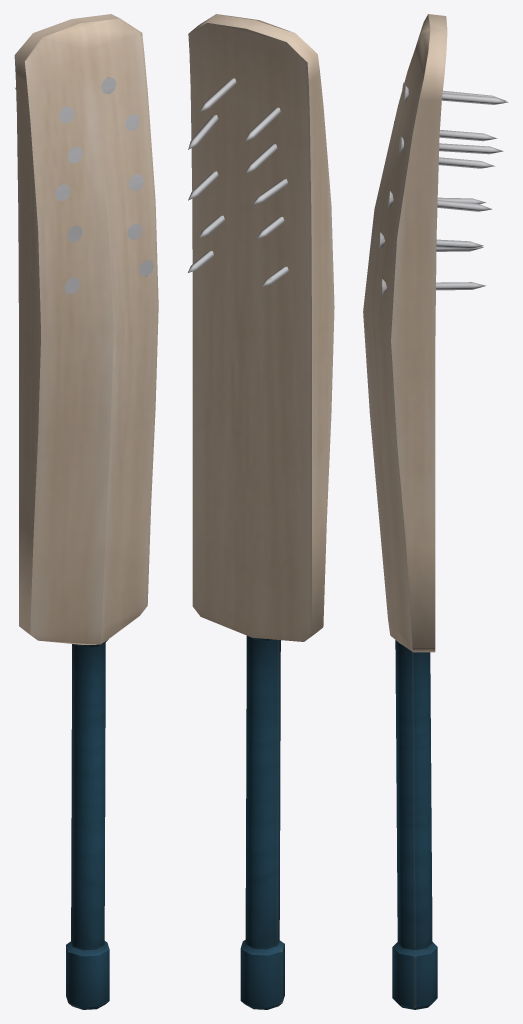
Rendered from CricketBatNails.fbx.
3 renders of one model, left to right at view 1: azimuth 30°, elevation 25°; view 2: azimuth 150°, elevation 25°; view 3: azimuth 270°, elevation 25°, orthographic.
Visible parts, largest first — view 1: Cylinder.001; view 2: Cylinder.001; view 3: Cylinder.001.
Part boxes in pixels (bbox=[...]): Cylinder.001: bbox=[14, 14, 158, 1009]; Cylinder.001: bbox=[188, 14, 334, 1009]; Cylinder.001: bbox=[363, 14, 508, 1009].
Size of the model in its own units: 0.06 by 0.475 by 0.0645.
